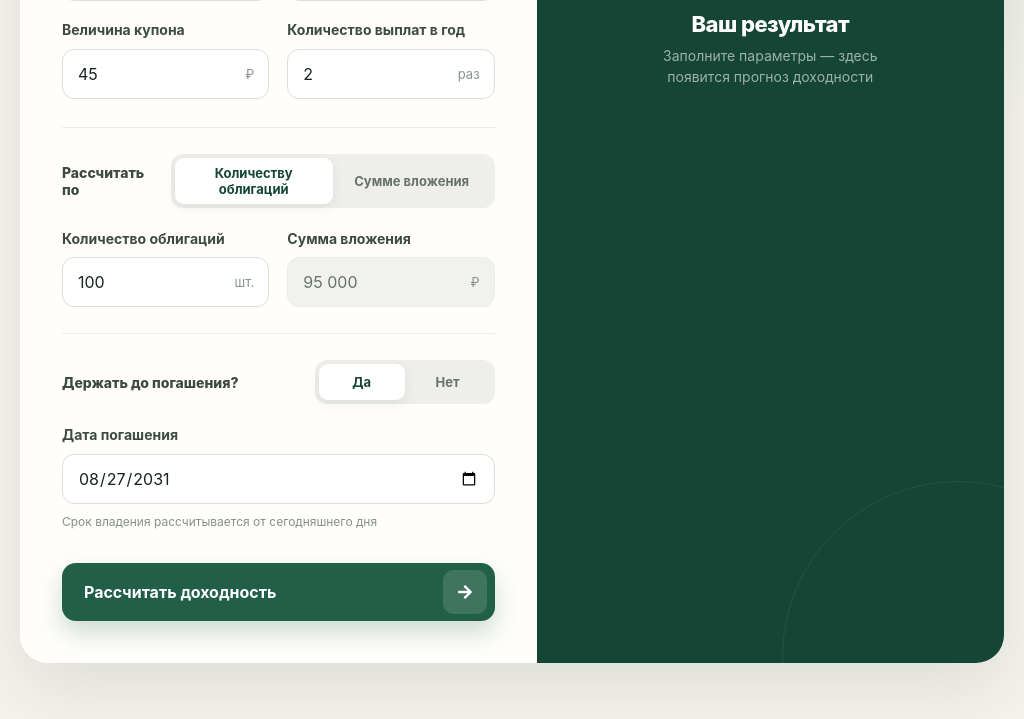
Test: BondCalculatorPage › calculates and then updates the result live
The width and height of the screenshot is (1024, 719).
(page scrolled)
Click the button "Рассчитать доходность". click: (278, 592)
box: [62,563,495,621]
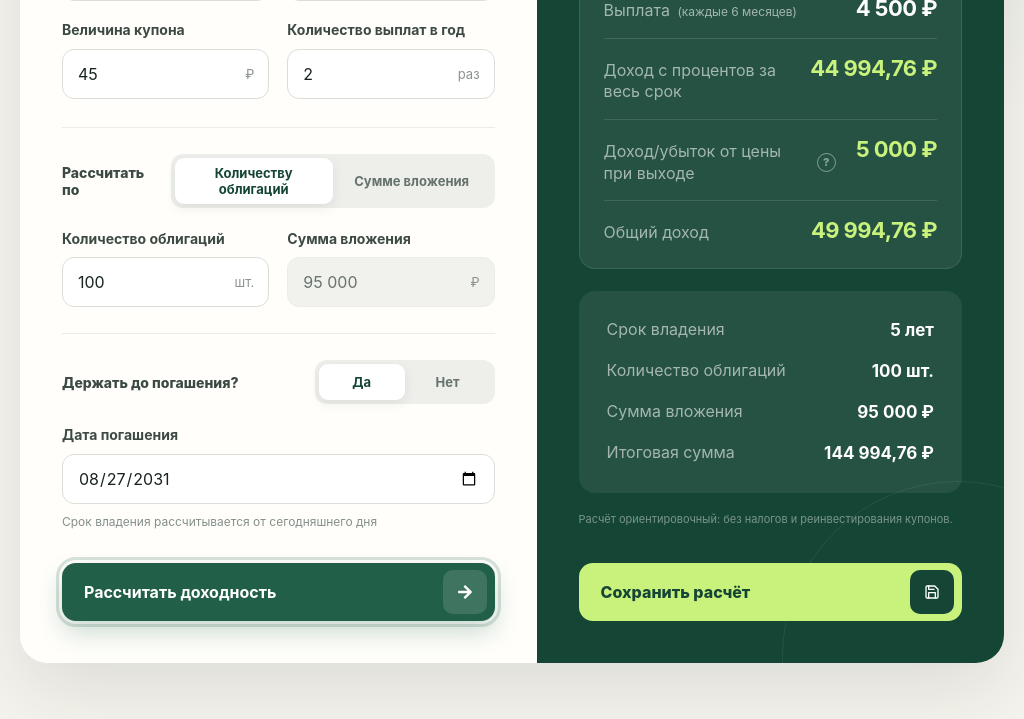
Replace the text in the field labelled "Величина купона" with "50". click: (166, 74)
box: [62,48,269,98]
(page scrolled)
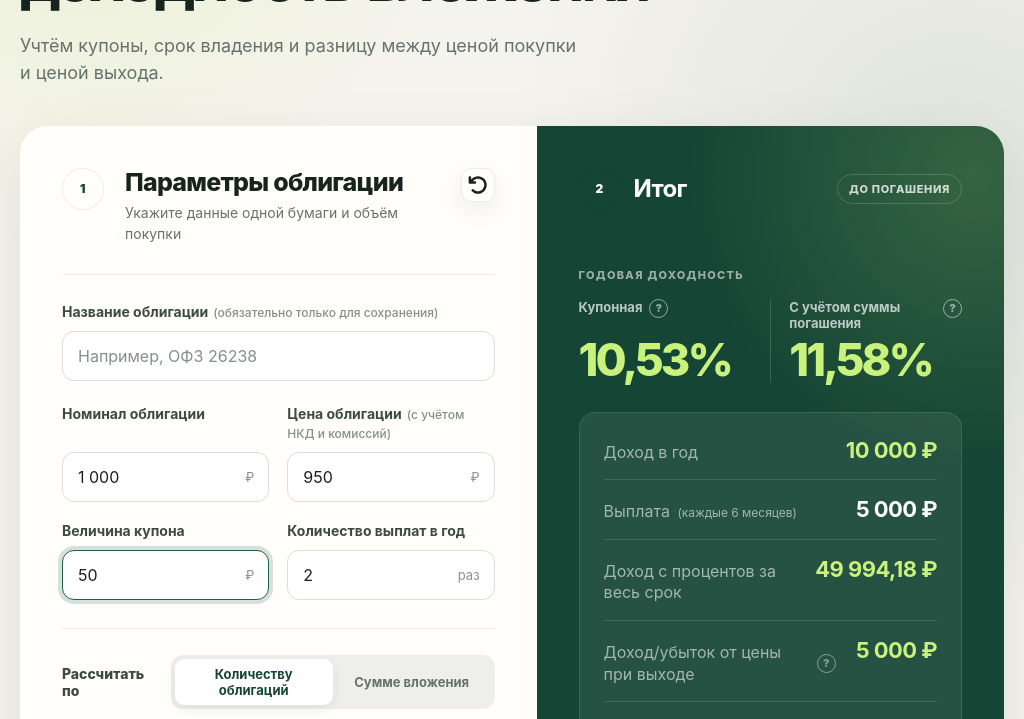
Expected: the text "11,58%" is shown, [789,332,932,387]
